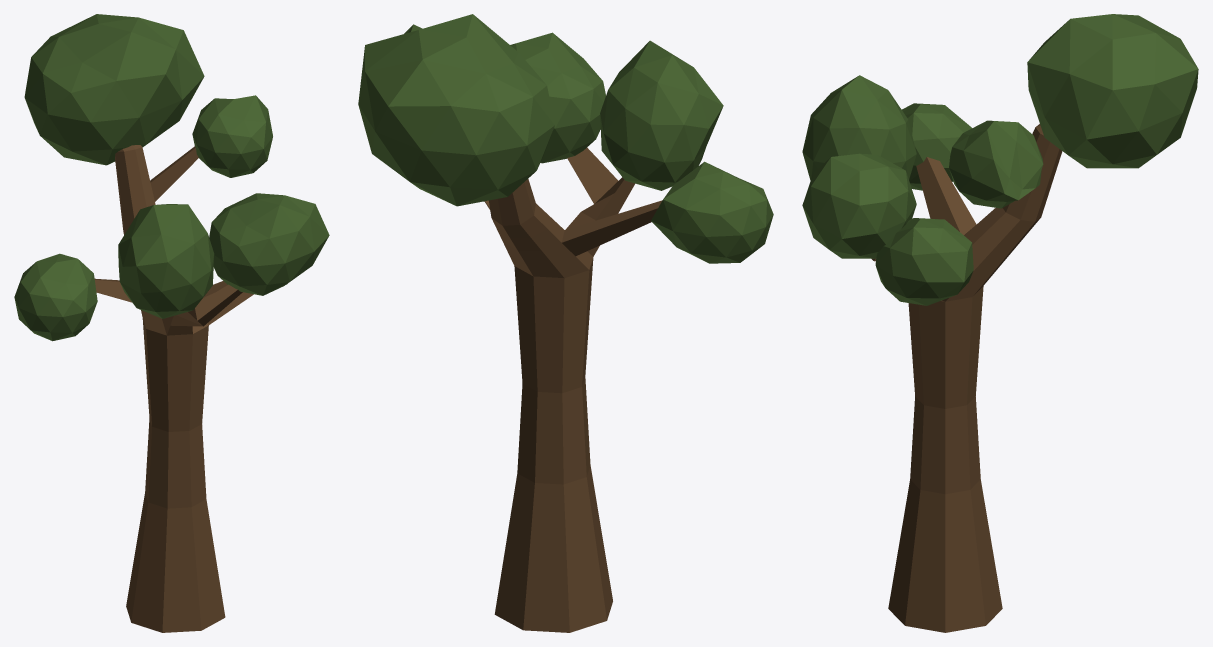
Rendered from árbol2.glb.
The picture shows the model from 3 angles, left to right: view 1: azimuth 30°, elevation 25°; view 2: azimuth 150°, elevation 25°; view 3: azimuth 270°, elevation 25°; orthographic projection. The views are drawn at different scales.
Visible parts, largest first — view 1: Cylinder; view 2: Cylinder; view 3: Cylinder.
Part boxes in pixels (box(x1,y1,x2,y2)): Cylinder: box(14, 14, 329, 632); Cylinder: box(358, 14, 773, 632); Cylinder: box(802, 14, 1198, 632).
Size of the model in its own units: 6.48 by 11.5 by 6.92.
